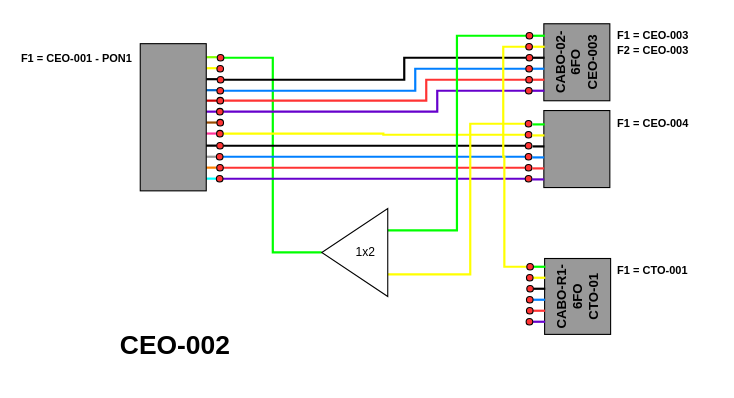
The diagram is 734 pixels wide and 398 high, and some of its shapes have lost their labels. Each missing label, with the centre of its shape:
"CABO-01-12FO CEO-001" goes at (x=172, y=117).
"CABO-03-6FO CEO-004" goes at (x=576, y=148).
